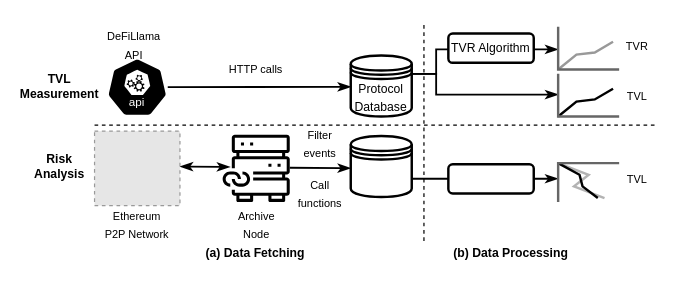
Image size: 680x293. Some labels were removed from this diagram. Grey dashed boxes stand in for pictures. Here are the shapes that lost their labels. From the top down, the centre of each, then its label:
[380,166]: PLF User Database
[490,178]: Risk Algorithm
